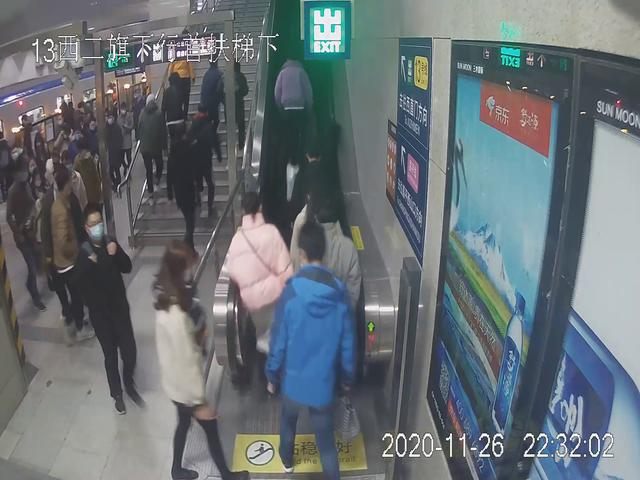person: (264, 221, 361, 477), (147, 240, 247, 480), (65, 208, 147, 409), (220, 191, 295, 392), (44, 173, 91, 345), (268, 52, 320, 172), (160, 137, 208, 254), (132, 92, 167, 196), (201, 53, 228, 160)
